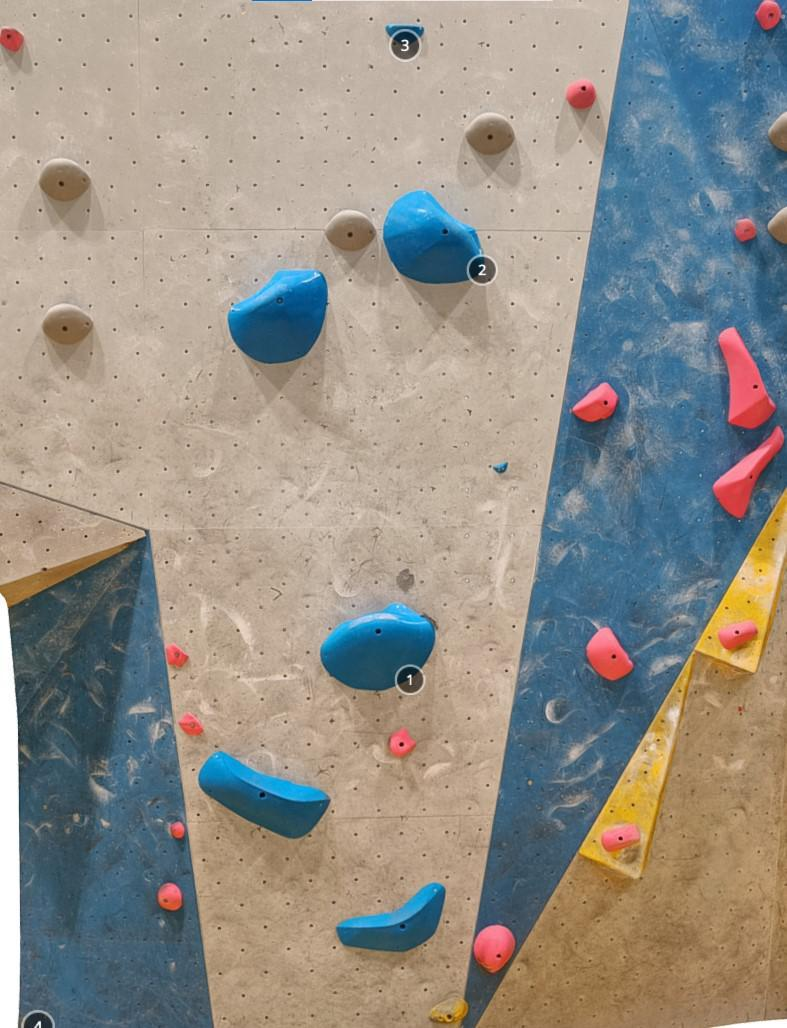hold: (578, 651, 696, 879), (695, 486, 787, 674), (198, 750, 330, 838), (320, 601, 435, 690), (228, 269, 328, 363), (383, 190, 484, 283), (335, 882, 446, 951), (713, 425, 784, 518), (718, 326, 776, 429), (586, 627, 634, 681), (39, 157, 92, 201), (324, 209, 377, 251), (42, 303, 94, 345), (465, 112, 516, 154), (473, 925, 515, 973), (573, 382, 619, 422), (718, 621, 758, 650), (427, 998, 469, 1025), (601, 824, 640, 851), (566, 79, 596, 109), (385, 23, 424, 45), (388, 728, 417, 757), (755, 0, 781, 30), (768, 111, 787, 152), (157, 882, 182, 912), (768, 207, 787, 245), (178, 711, 204, 736), (0, 26, 24, 51), (167, 642, 189, 667), (734, 218, 756, 241), (170, 821, 186, 839), (492, 462, 508, 473)
volume: (0, 482, 146, 609)
